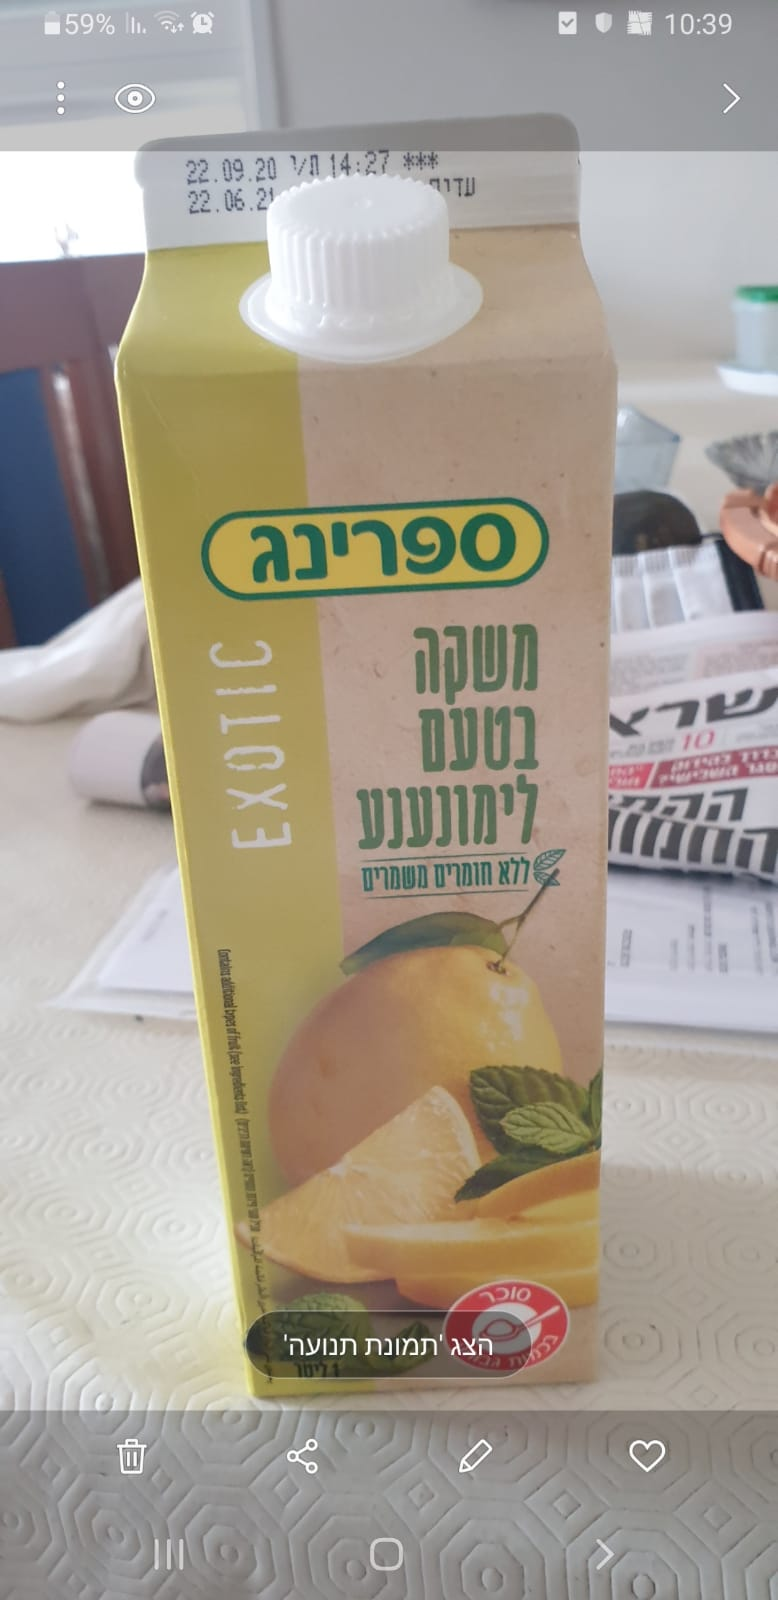sugar: (441, 1280, 570, 1376)
